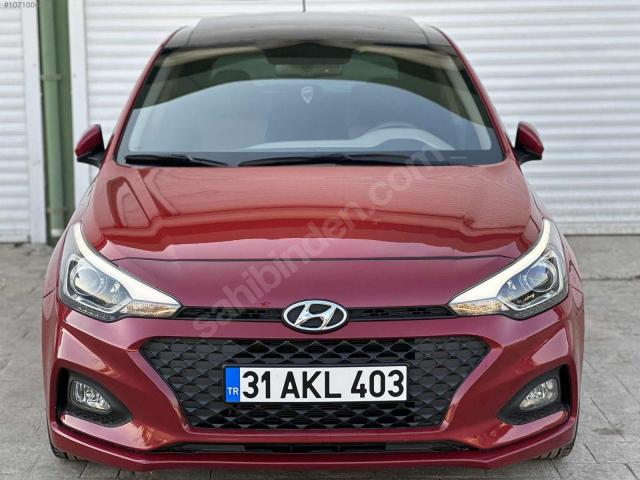plaka: (226, 366, 407, 402)
